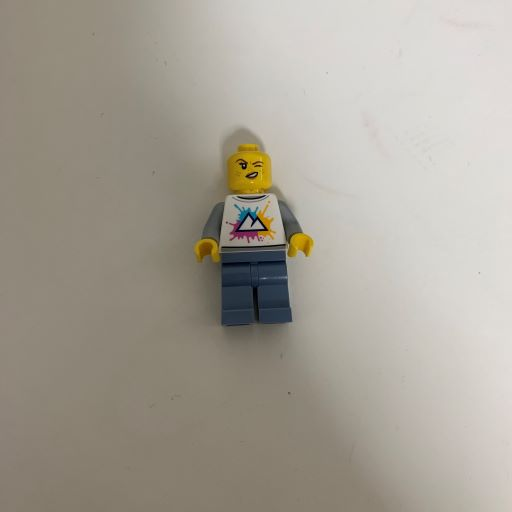human: (190, 139, 318, 331)
